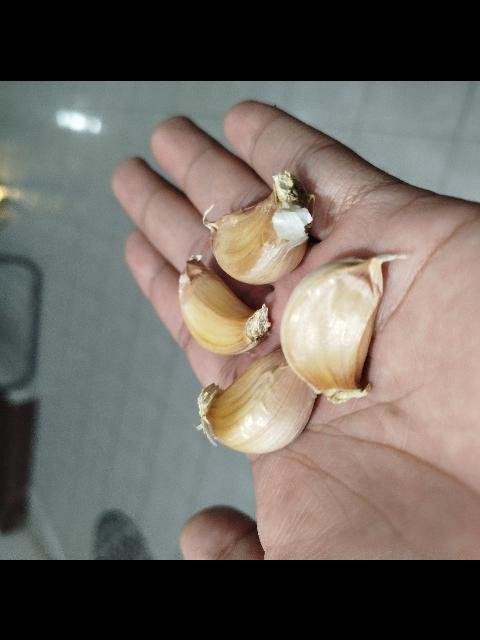garlic: (279, 252, 407, 403), (202, 170, 316, 284), (196, 348, 318, 454), (178, 253, 272, 354)
